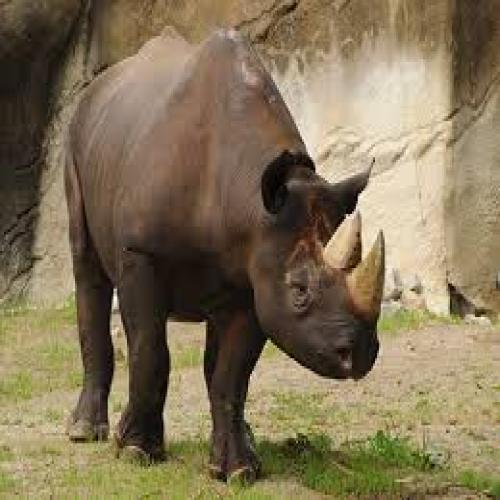rhino-endangered: (59, 25, 387, 484)
